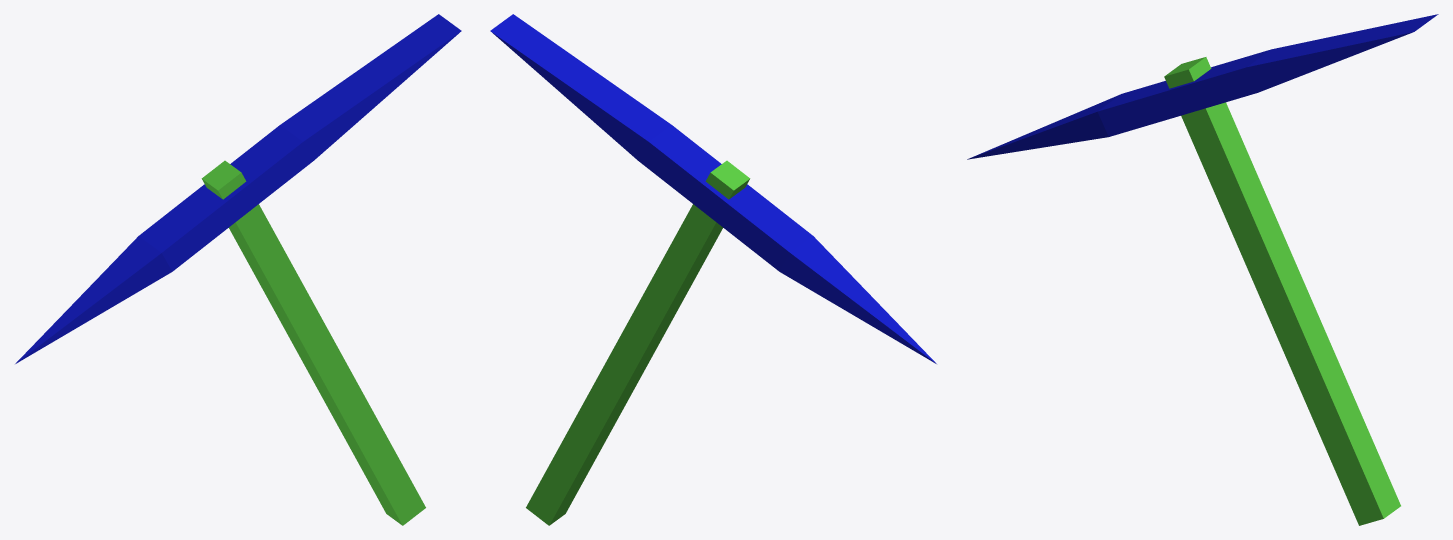
The model's file is pick.obj.
3 views of the same model, side by side, from view 1: azimuth 30°, elevation 25°; view 2: azimuth 150°, elevation 25°; view 3: azimuth 330°, elevation 25° (orthographic). The views are drawn at different scales.
Parts seen in each view (by area): view 1: Cube.001_Cube.002, Cube_Cube.001; view 2: Cube.001_Cube.002, Cube_Cube.001; view 3: Cube_Cube.001, Cube.001_Cube.002.
Boxes of the visible parts, box(x1,y1,x2,y2) form: Cube.001_Cube.002: box(15, 14, 461, 363); Cube_Cube.001: box(201, 160, 425, 525); Cube.001_Cube.002: box(490, 14, 936, 363); Cube_Cube.001: box(526, 160, 750, 525); Cube_Cube.001: box(1164, 57, 1400, 525); Cube.001_Cube.002: box(967, 14, 1438, 159).
Size of the model in its own units: 1.49 by 1.58 by 0.137.
